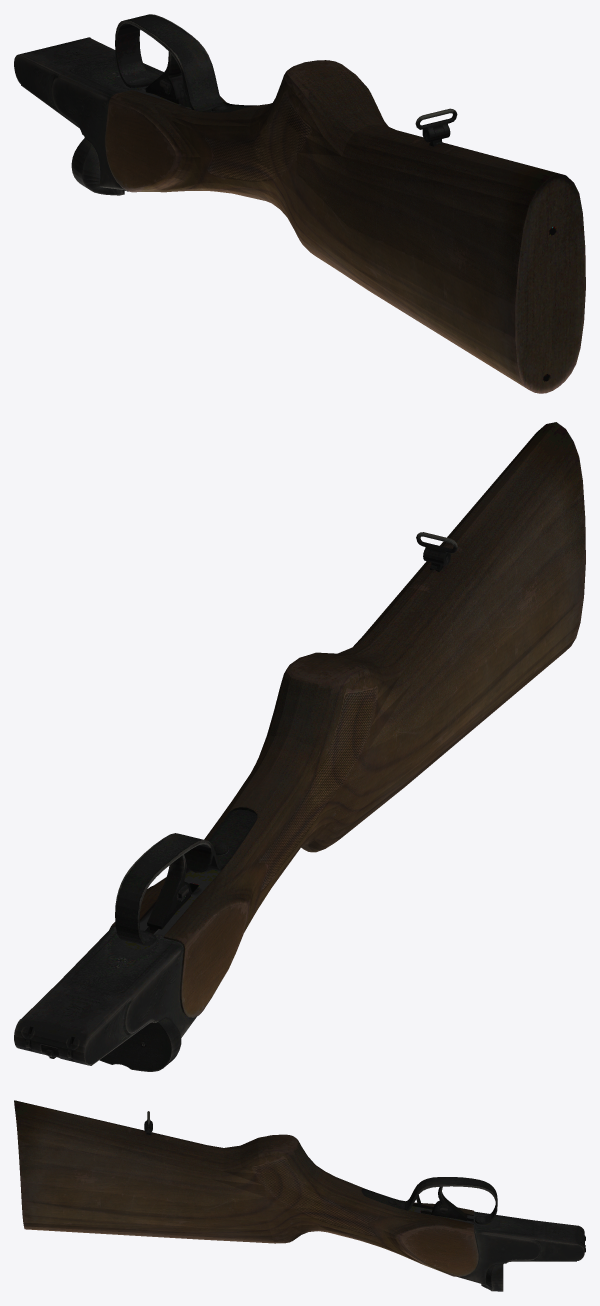
3 renders of one model, top to bottom at view 1: azimuth 30°, elevation 25°; view 2: azimuth 150°, elevation 25°; view 3: azimuth 270°, elevation 25°, orthographic. The views are drawn at different scales.
Parts seen in each view (by area): view 1: TW_5580223e4bdc2d1c128b457f_PZ_Import; view 2: TW_5580223e4bdc2d1c128b457f_PZ_Import; view 3: TW_5580223e4bdc2d1c128b457f_PZ_Import.
Boxes of the visible parts, x1=… form: TW_5580223e4bdc2d1c128b457f_PZ_Import: x1=14, y1=14, x2=585, y2=393; TW_5580223e4bdc2d1c128b457f_PZ_Import: x1=14, y1=422, x2=585, y2=1071; TW_5580223e4bdc2d1c128b457f_PZ_Import: x1=14, y1=1100, x2=585, y2=1291.
Size of the model in its own units: 0.033 by 0.2899 by 0.1029.
1 material, 1 textured.
